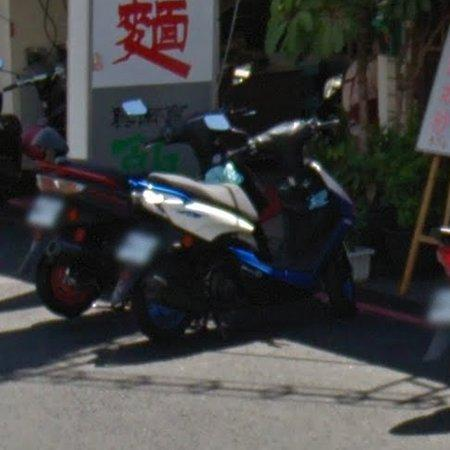motorcycles: (117, 120, 354, 338), (26, 155, 134, 318), (148, 91, 257, 180)
